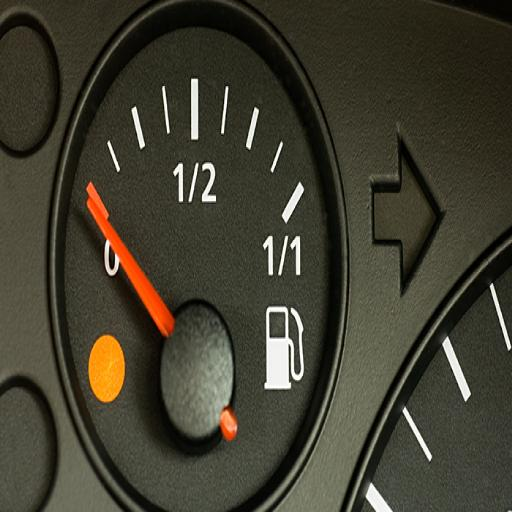fuel_icon: (259, 298, 307, 402)
full: (260, 229, 310, 286)
guage_area: (46, 0, 360, 512)
needle_center: (156, 295, 241, 456)
needle_tip: (82, 194, 106, 229)
